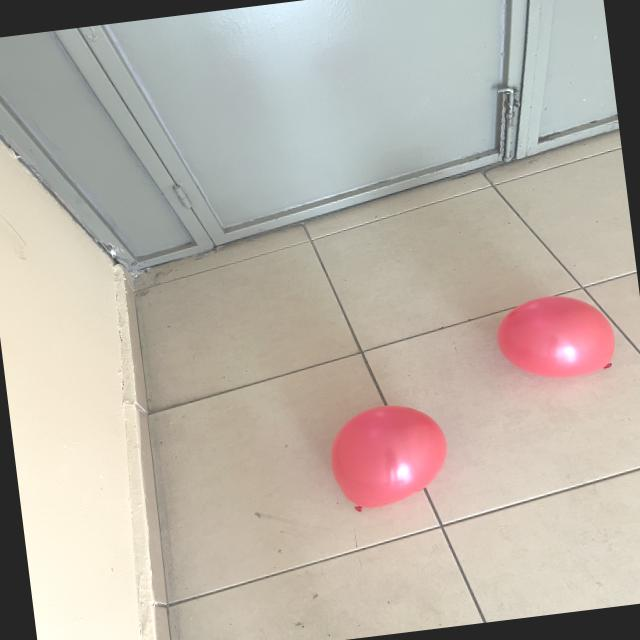balloon: (330, 405, 446, 507), (497, 296, 614, 377)
